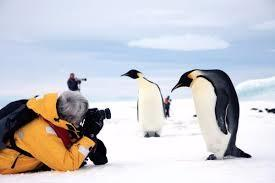emporer: (169, 63, 253, 169), (114, 63, 171, 142)
